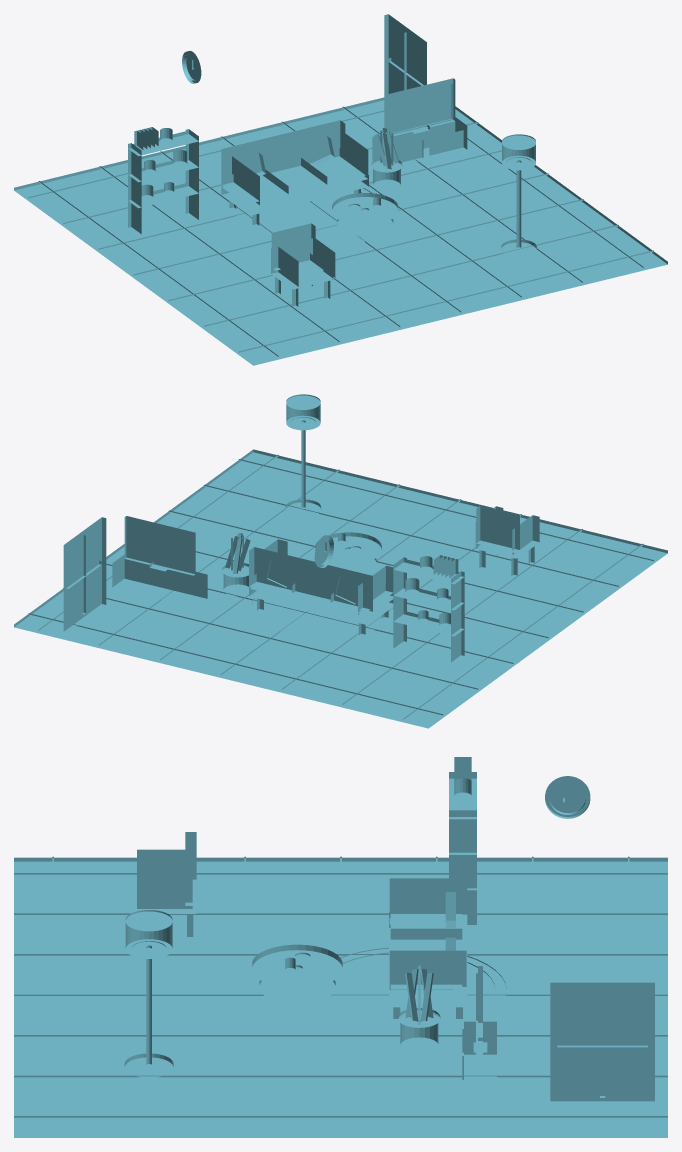
File: livingroom2.glb
3 views of the same model, one above another, from view 1: azimuth 30°, elevation 25°; view 2: azimuth 150°, elevation 25°; view 3: azimuth 270°, elevation 25° (orthographic). The views are drawn at different scales.
Parts seen in each view (by area): view 1: FloorMat, Sofa, TvStand, Shelf, Armchair, Window, Rug, CoffeeTable, FloorLamp, Plant; view 2: FloorMat, Sofa, TvStand, Shelf, Window, Armchair, Rug, FloorLamp, CoffeeTable, Plant, WallClock; view 3: FloorMat, Window, Sofa, Rug, CoffeeTable, Armchair, FloorLamp, Shelf, TvStand, Plant, WallClock.
Boxes of the visible parts, x1,y1,x2,y2 form: FloorMat: [14, 97, 667, 365]; Sofa: [221, 120, 368, 226]; TvStand: [372, 78, 467, 165]; Shelf: [128, 127, 198, 234]; Armchair: [271, 223, 335, 307]; Window: [384, 14, 426, 94]; Rug: [235, 188, 372, 239]; CoffeeTable: [332, 193, 398, 241]; FloorLamp: [501, 134, 536, 257]; Plant: [371, 128, 402, 191]; FloorMat: [14, 449, 667, 728]; Sofa: [249, 539, 393, 636]; TvStand: [112, 516, 207, 607]; Shelf: [393, 555, 464, 663]; Window: [63, 517, 106, 632]; Armchair: [475, 506, 539, 576]; Rug: [252, 598, 393, 637]; FloorLamp: [285, 394, 321, 517]; CoffeeTable: [315, 532, 381, 574]; Plant: [222, 533, 250, 596]; WallClock: [314, 535, 333, 568]; FloorMat: [14, 856, 667, 1137]; Window: [550, 982, 654, 1103]; Sofa: [389, 865, 467, 1021]; Rug: [316, 947, 506, 1032]; CoffeeTable: [252, 944, 342, 1011]; Armchair: [137, 832, 196, 939]; FloorLamp: [124, 910, 173, 1077]; Shelf: [449, 757, 476, 927]; TvStand: [462, 966, 496, 1109]; Plant: [398, 965, 440, 1053]; WallClock: [545, 776, 590, 818].
Size of the model in its own units: 7.5 by 2.26 by 7.5.
